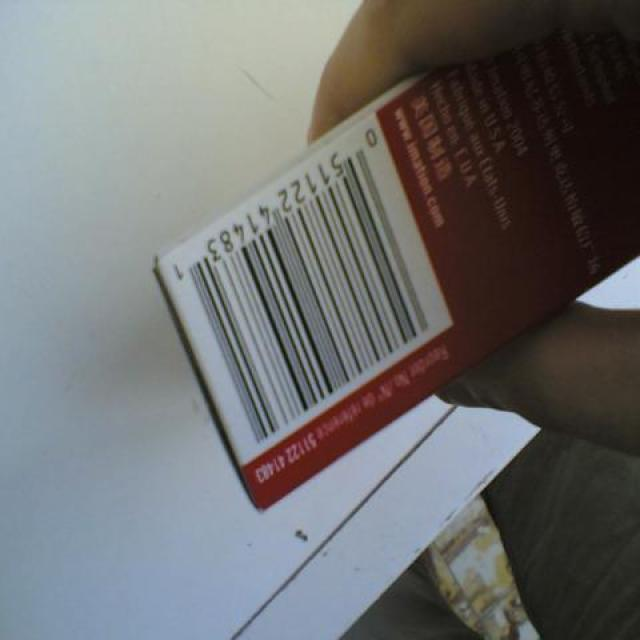Barcode: (148, 107, 456, 474)
